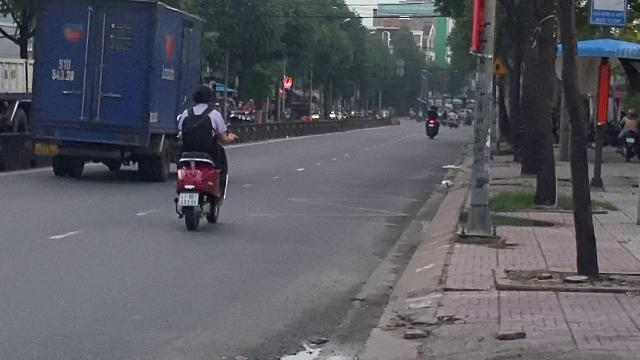licenseplate: (179, 193, 197, 205)
motorcyclist: (168, 82, 232, 231)
nohelmet: (190, 84, 213, 106)
